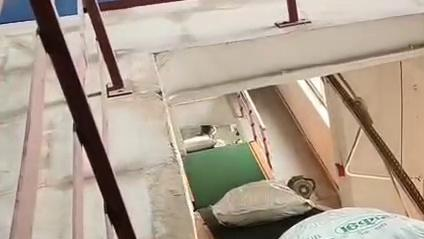box: (212, 179, 326, 226), (278, 207, 424, 239)
